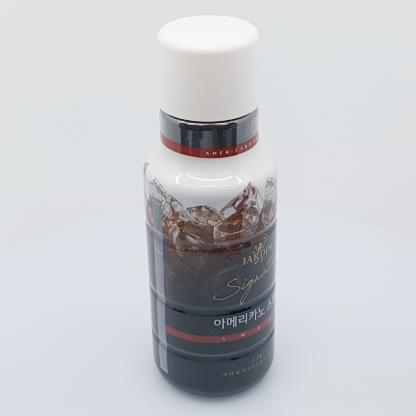--------------1-1L: (142, 15, 278, 397)
